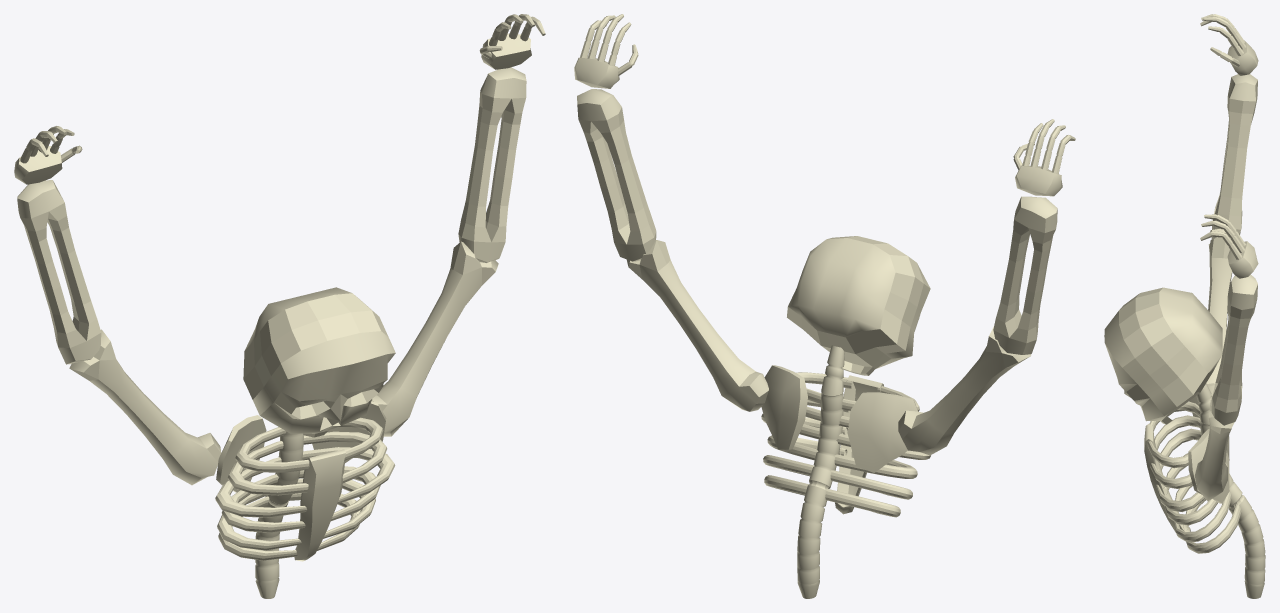
The model's file is Cadaver4.fbx.
3 views of the same model, side by side, from view 1: azimuth 30°, elevation 25°; view 2: azimuth 150°, elevation 25°; view 3: azimuth 270°, elevation 25° (orthographic). The views are drawn at different scales.
Visible parts, largest first — view 1: Cadaver_4; view 2: Cadaver_4; view 3: Cadaver_4.
Boxes of the visible parts, x1=… form: Cadaver_4: x1=14, y1=14, x2=545, y2=598; Cadaver_4: x1=574, y1=14, x2=1075, y2=598; Cadaver_4: x1=1104, y1=14, x2=1265, y2=598.
Size of the model in its own units: 123 by 124 by 37.69.
